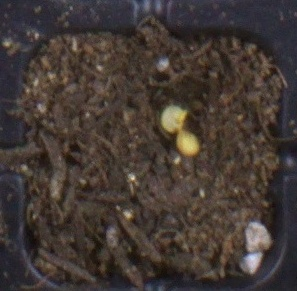chilli seed: (160, 103, 187, 133), (176, 130, 201, 157)
